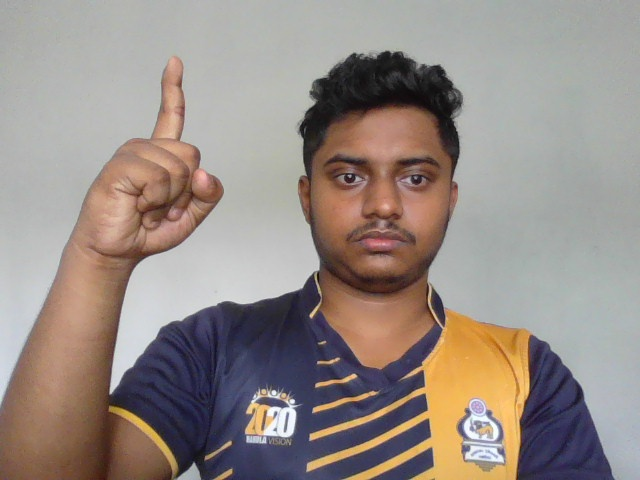Me: (74, 56, 230, 261)
